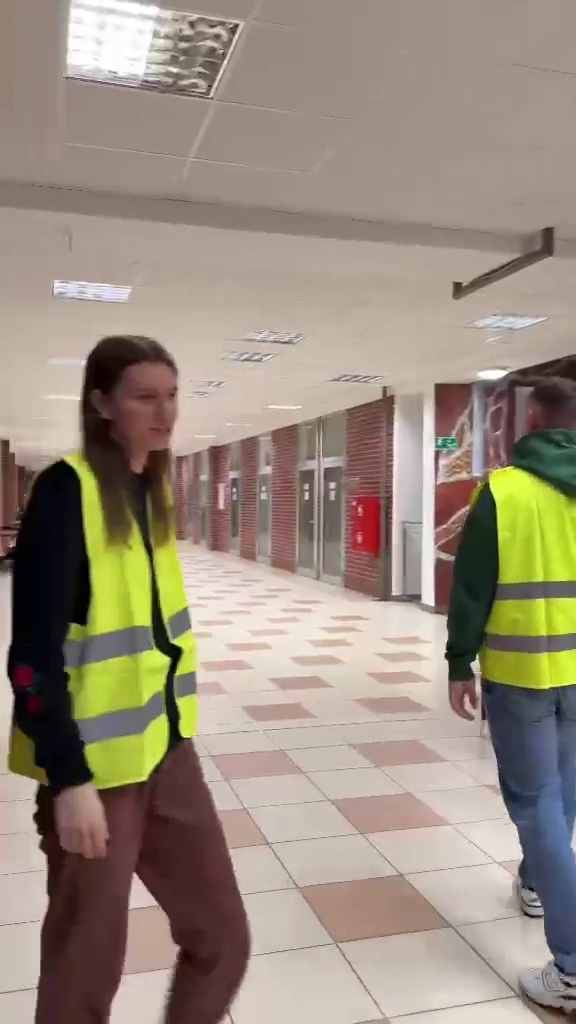vest: (17, 338, 257, 1003), (442, 378, 576, 1014)
